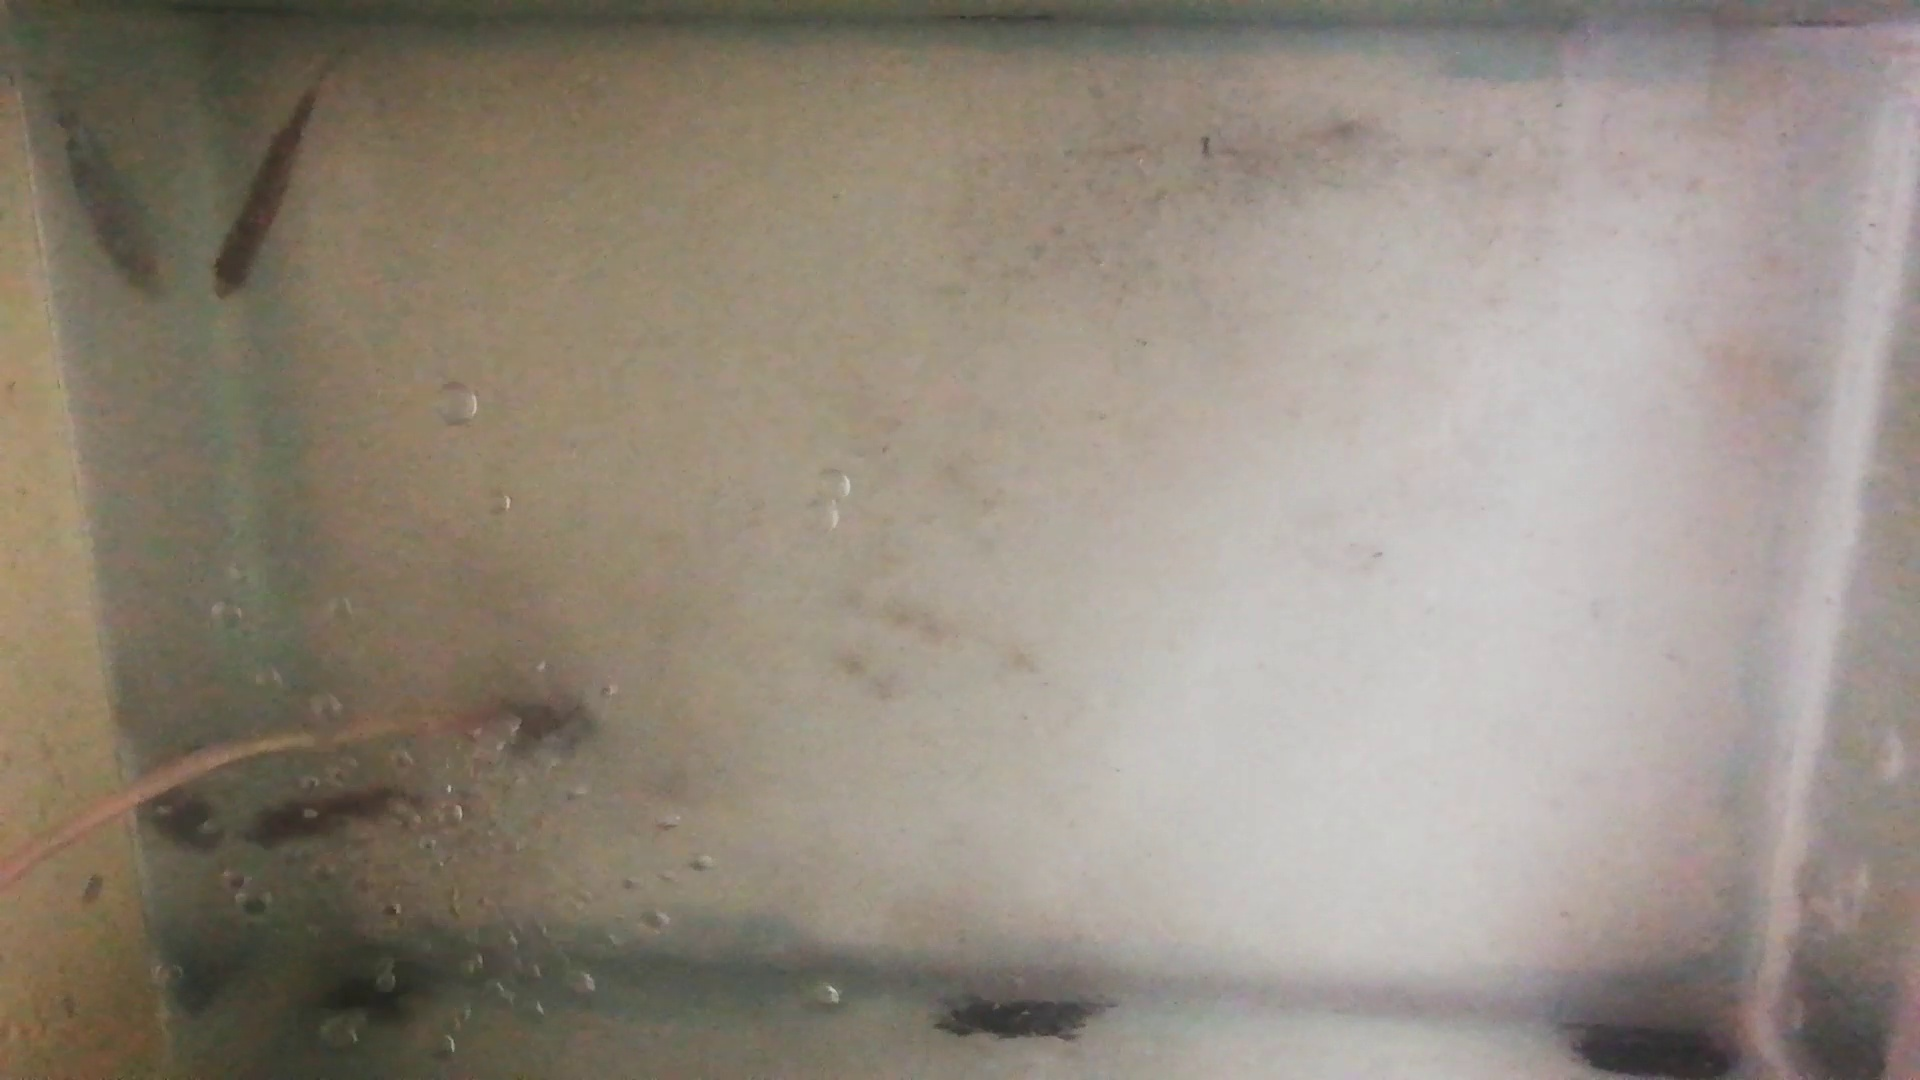fish: (207, 86, 316, 301), (240, 787, 421, 848)
